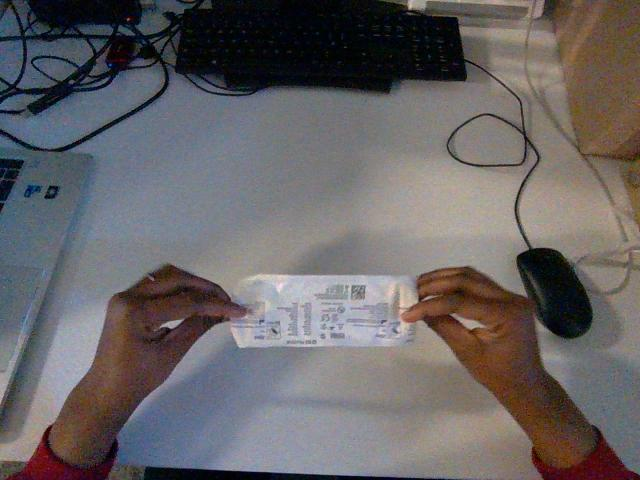syringe: (231, 274, 417, 347)
